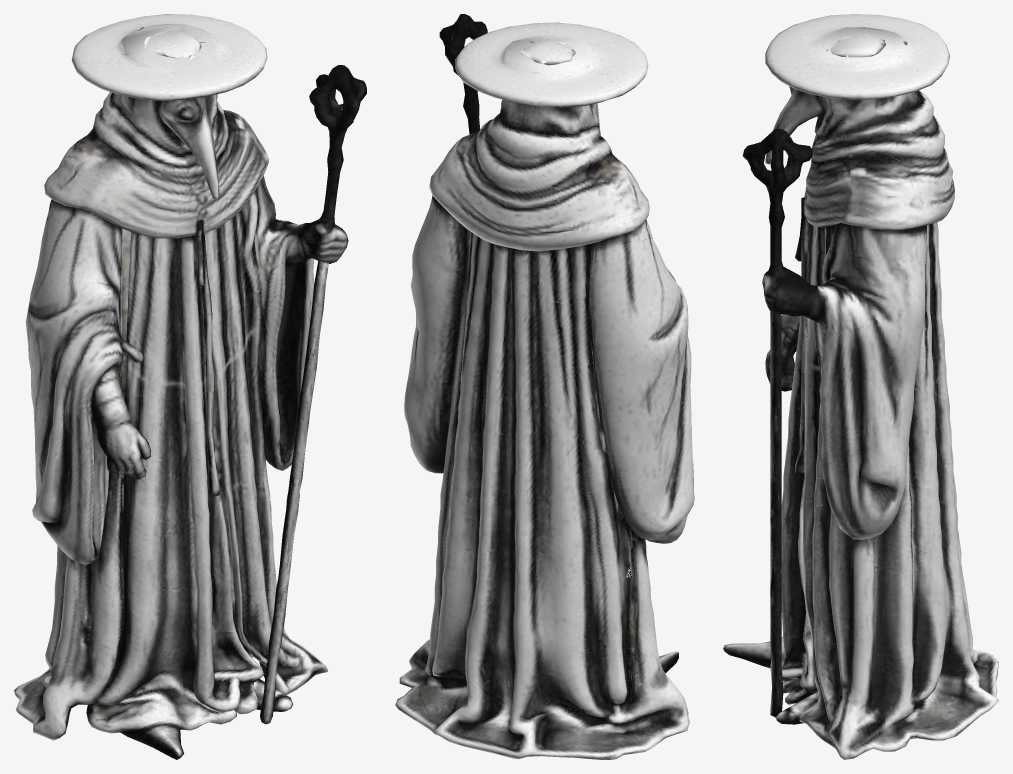
Rendered from Clergy_Plaguedoctor.glb.
The picture shows the model from 3 angles, left to right: view 1: azimuth 30°, elevation 25°; view 2: azimuth 150°, elevation 25°; view 3: azimuth 270°, elevation 25°; orthographic projection. The views are drawn at different scales.
Size of the model in its own units: 0.7906 by 1.72 by 0.6615.
Materials: 1 (1 with a texture image).
